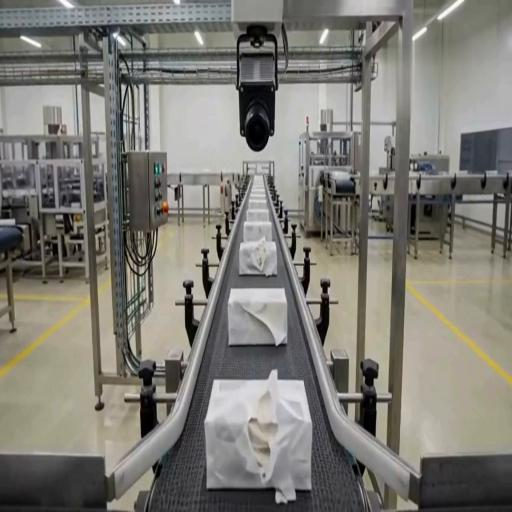defective: (204, 371, 310, 499), (228, 289, 288, 347), (238, 239, 278, 277)
good: (243, 221, 272, 243), (246, 208, 270, 222)
